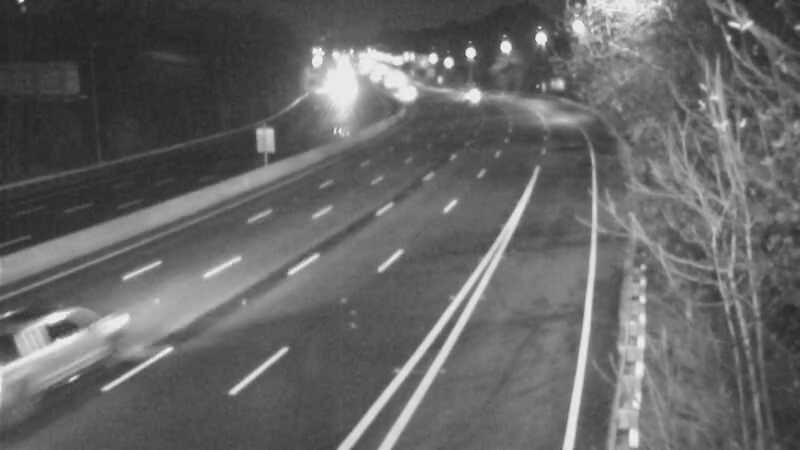vehicle: (1, 304, 104, 414), (388, 68, 438, 118), (441, 70, 491, 120)
